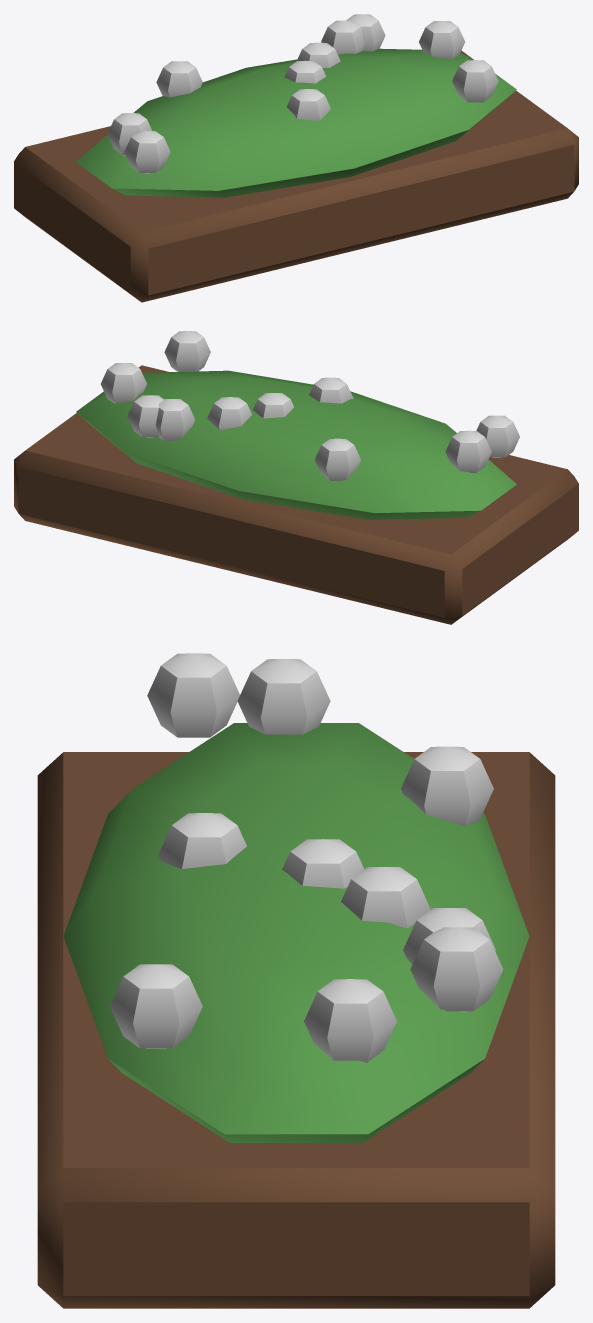
File: flowers.glb
3 renders of one model, top to bottom at view 1: azimuth 30°, elevation 25°; view 2: azimuth 150°, elevation 25°; view 3: azimuth 270°, elevation 25°, orthographic. The views are drawn at different scales.
Visible parts, largest first — view 1: flowers; view 2: flowers; view 3: flowers.
Part boxes in pixels (x1=…): flowers: x1=14, y1=14, x2=578, y2=302; flowers: x1=14, y1=331, x2=578, y2=624; flowers: x1=37, y1=653, x2=555, y2=1308.
Bounding box in the file's own units: 2 × 0.59 × 1.
